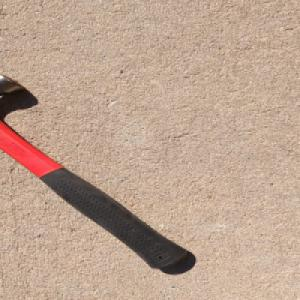Hammer: (0, 71, 190, 270)
